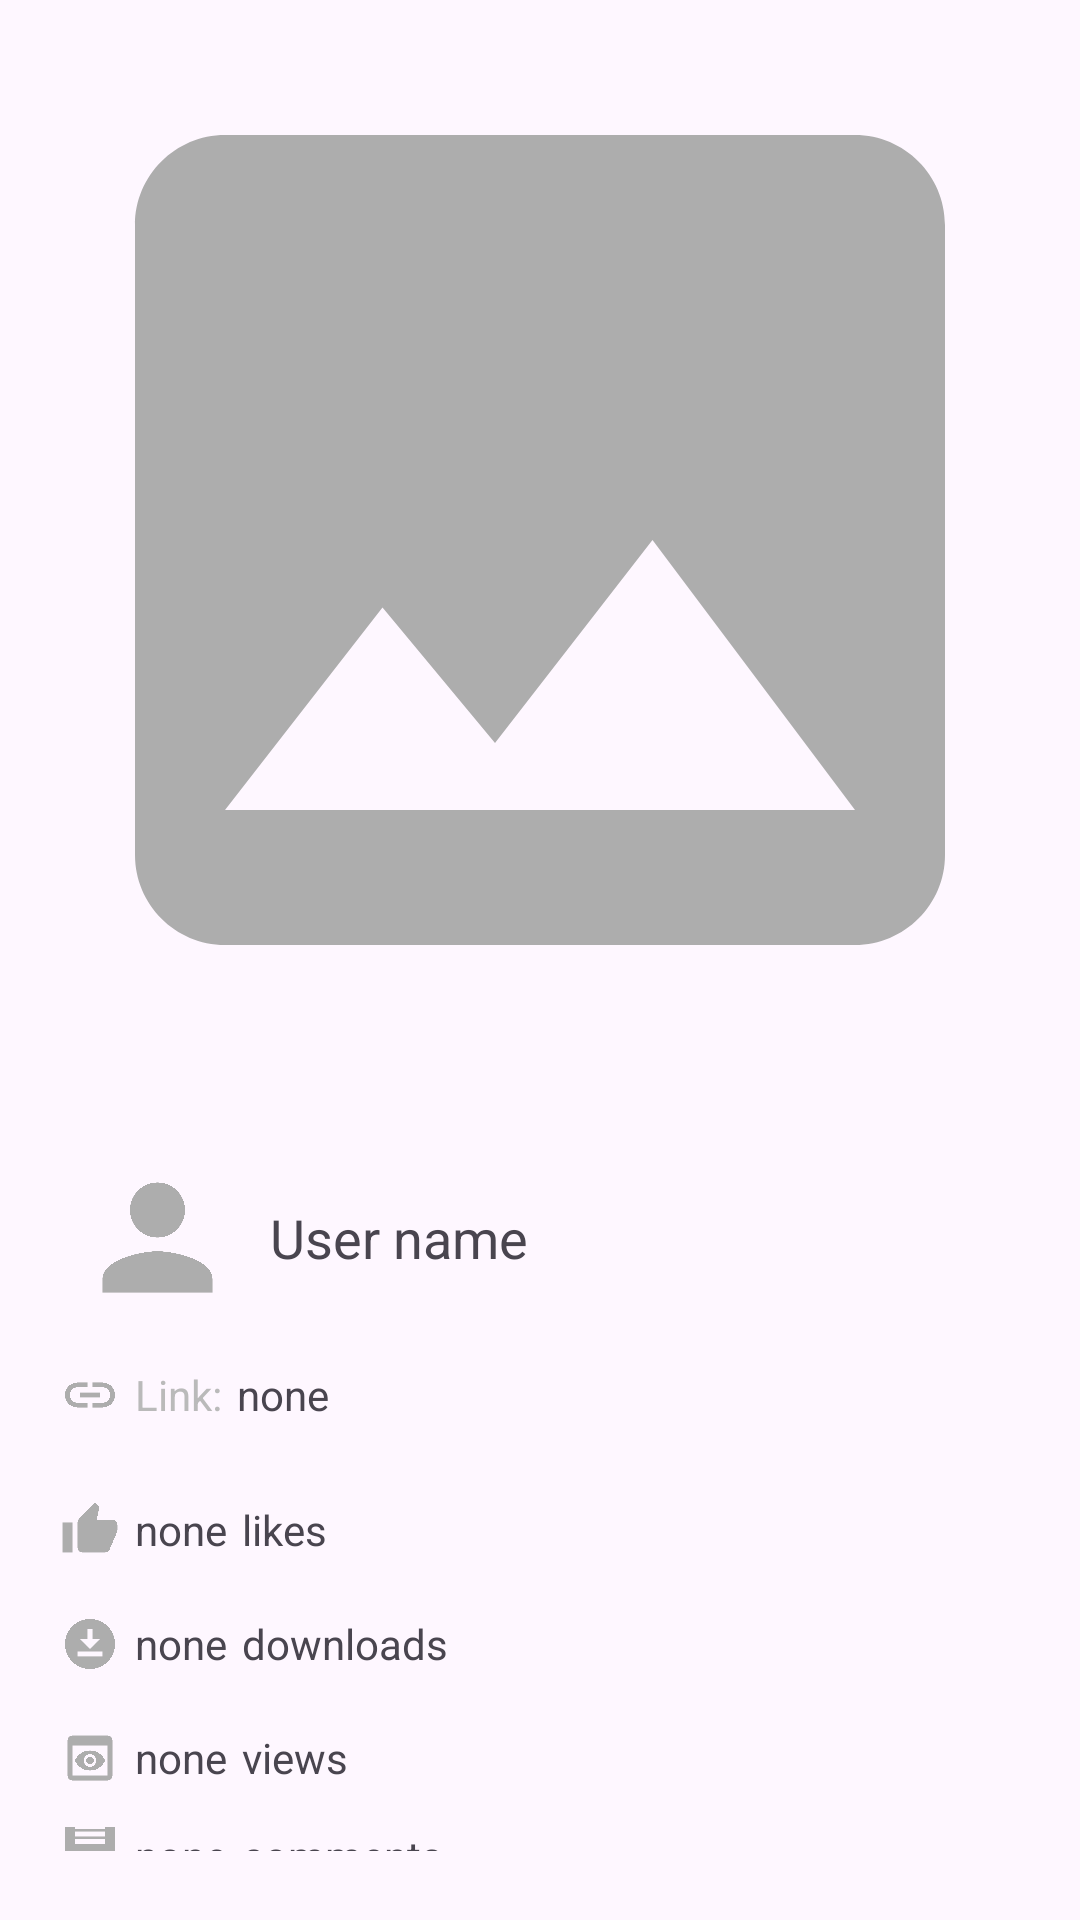

Icons on this 1080w x 1920h Android screen, each with its box as [x1=x1, y1=y1, x2=x2, y2=y2]:
download for offline: [x1=65, y1=1619, x2=115, y2=1669]
person: [x1=102, y1=1182, x2=213, y2=1293]
thumb up: [x1=62, y1=1503, x2=118, y2=1553]
